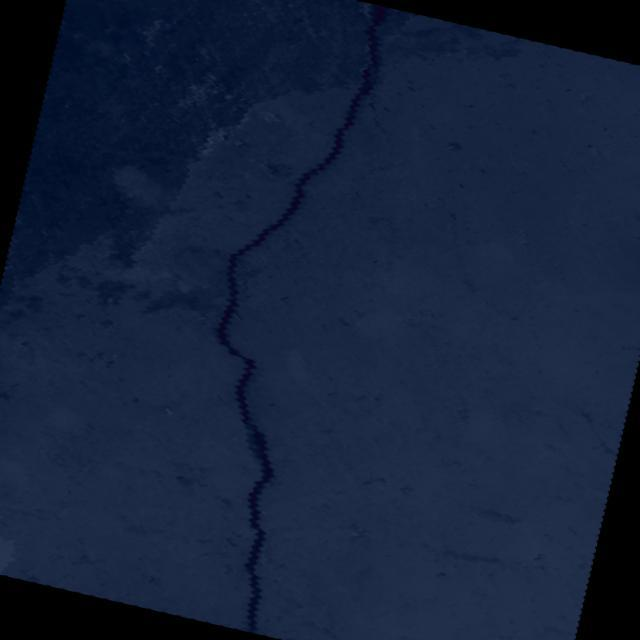crack: (86, 0, 423, 639), (414, 198, 540, 322), (312, 151, 390, 248)
